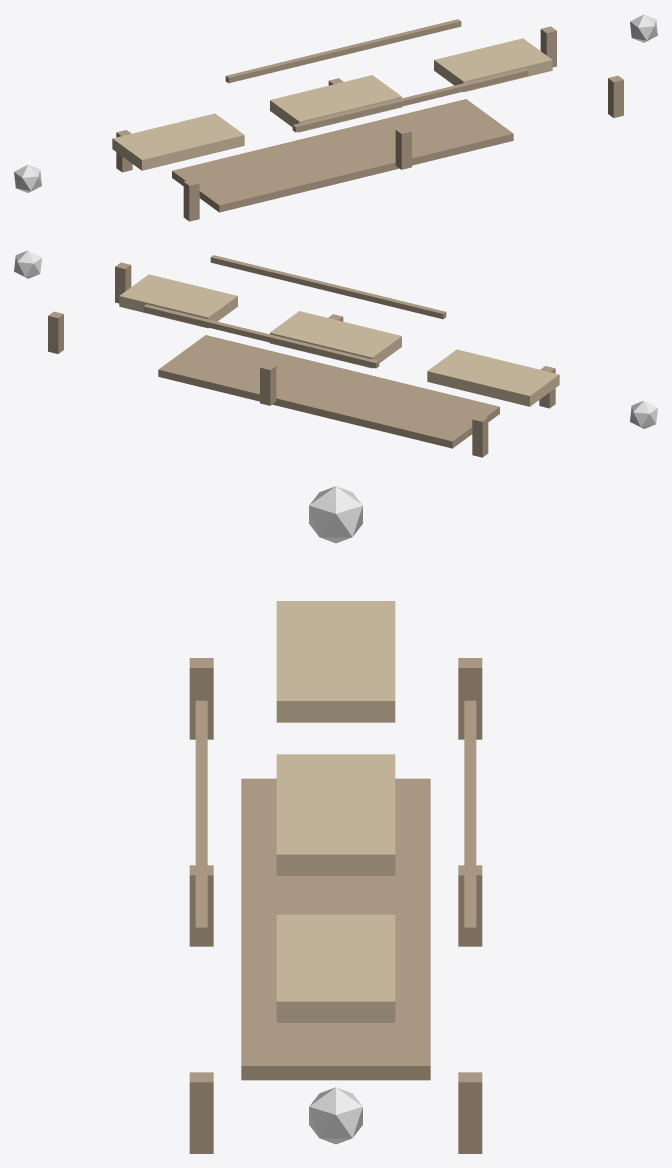
File: COASTAL_BOARDWALK_001_LOD_GAMEPLAY.glb
3 renders of one model, top to bottom at view 1: azimuth 30°, elevation 25°; view 2: azimuth 150°, elevation 25°; view 3: azimuth 270°, elevation 25°, orthographic. The views are drawn at different scales.
Parts seen in each view (by area): view 1: COASTAL_BOARDWALK_001_LOD_GAMEPLAY_GROUND_SOCKET, COASTAL_BOARDWALK_001_LOD_GAMEPLAY_DECK_A, COASTAL_BOARDWALK_001_LOD_GAMEPLAY_DECK_B, COASTAL_BOARDWALK_001_LOD_GAMEPLAY_DECK_C, COASTAL_BOARDWALK_001_LOD_GAMEPLAY_RAIL_LEFT, COASTAL_BOARDWALK_001_LOD_GAMEPLAY_RAIL_RIGHT, COASTAL_BOARDWALK_001_LOD_GAMEPLAY_POST_RIGHT_A, COASTAL_BOARDWALK_001_LOD_GAMEPLAY_POST_RIGHT_B, COASTAL_BOARDWALK_001_LOD_GAMEPLAY_POST_RIGHT_C, COASTAL_BOARDWALK_001_LOD_GAMEPLAY_SNAP_IN, COASTAL_BOARDWALK_001_LOD_GAMEPLAY_SNAP_OUT, COASTAL_BOARDWALK_001_LOD_GAMEPLAY_POST_LEFT_C; view 2: COASTAL_BOARDWALK_001_LOD_GAMEPLAY_GROUND_SOCKET, COASTAL_BOARDWALK_001_LOD_GAMEPLAY_DECK_A, COASTAL_BOARDWALK_001_LOD_GAMEPLAY_DECK_B, COASTAL_BOARDWALK_001_LOD_GAMEPLAY_DECK_C, COASTAL_BOARDWALK_001_LOD_GAMEPLAY_RAIL_RIGHT, COASTAL_BOARDWALK_001_LOD_GAMEPLAY_RAIL_LEFT, COASTAL_BOARDWALK_001_LOD_GAMEPLAY_POST_LEFT_A, COASTAL_BOARDWALK_001_LOD_GAMEPLAY_POST_LEFT_B, COASTAL_BOARDWALK_001_LOD_GAMEPLAY_POST_LEFT_C, COASTAL_BOARDWALK_001_LOD_GAMEPLAY_SNAP_IN, COASTAL_BOARDWALK_001_LOD_GAMEPLAY_SNAP_OUT, COASTAL_BOARDWALK_001_LOD_GAMEPLAY_POST_RIGHT_C; view 3: COASTAL_BOARDWALK_001_LOD_GAMEPLAY_GROUND_SOCKET, COASTAL_BOARDWALK_001_LOD_GAMEPLAY_DECK_A, COASTAL_BOARDWALK_001_LOD_GAMEPLAY_DECK_B, COASTAL_BOARDWALK_001_LOD_GAMEPLAY_DECK_C, COASTAL_BOARDWALK_001_LOD_GAMEPLAY_RAIL_LEFT, COASTAL_BOARDWALK_001_LOD_GAMEPLAY_RAIL_RIGHT, COASTAL_BOARDWALK_001_LOD_GAMEPLAY_SNAP_IN, COASTAL_BOARDWALK_001_LOD_GAMEPLAY_SNAP_OUT, COASTAL_BOARDWALK_001_LOD_GAMEPLAY_POST_LEFT_C, COASTAL_BOARDWALK_001_LOD_GAMEPLAY_POST_RIGHT_C, COASTAL_BOARDWALK_001_LOD_GAMEPLAY_POST_LEFT_A, COASTAL_BOARDWALK_001_LOD_GAMEPLAY_POST_RIGHT_A (+2 smaller).
Boxes of the visible parts, bbox=[...] form: COASTAL_BOARDWALK_001_LOD_GAMEPLAY_GROUND_SOCKET: bbox=[172, 99, 513, 212]; COASTAL_BOARDWALK_001_LOD_GAMEPLAY_DECK_A: bbox=[112, 113, 244, 170]; COASTAL_BOARDWALK_001_LOD_GAMEPLAY_DECK_B: bbox=[270, 75, 401, 132]; COASTAL_BOARDWALK_001_LOD_GAMEPLAY_DECK_C: bbox=[434, 38, 552, 92]; COASTAL_BOARDWALK_001_LOD_GAMEPLAY_RAIL_LEFT: bbox=[225, 19, 461, 83]; COASTAL_BOARDWALK_001_LOD_GAMEPLAY_RAIL_RIGHT: bbox=[292, 68, 528, 132]; COASTAL_BOARDWALK_001_LOD_GAMEPLAY_POST_RIGHT_A: bbox=[183, 179, 199, 221]; COASTAL_BOARDWALK_001_LOD_GAMEPLAY_POST_RIGHT_B: bbox=[395, 127, 411, 169]; COASTAL_BOARDWALK_001_LOD_GAMEPLAY_POST_RIGHT_C: bbox=[608, 75, 623, 117]; COASTAL_BOARDWALK_001_LOD_GAMEPLAY_SNAP_IN: bbox=[14, 164, 41, 192]; COASTAL_BOARDWALK_001_LOD_GAMEPLAY_SNAP_OUT: bbox=[630, 14, 657, 42]; COASTAL_BOARDWALK_001_LOD_GAMEPLAY_POST_LEFT_C: bbox=[540, 26, 556, 67]; COASTAL_BOARDWALK_001_LOD_GAMEPLAY_GROUND_SOCKET: bbox=[158, 335, 499, 448]; COASTAL_BOARDWALK_001_LOD_GAMEPLAY_DECK_A: bbox=[427, 349, 559, 406]; COASTAL_BOARDWALK_001_LOD_GAMEPLAY_DECK_B: bbox=[270, 311, 401, 368]; COASTAL_BOARDWALK_001_LOD_GAMEPLAY_DECK_C: bbox=[119, 274, 237, 328]; COASTAL_BOARDWALK_001_LOD_GAMEPLAY_RAIL_RIGHT: bbox=[210, 255, 446, 319]; COASTAL_BOARDWALK_001_LOD_GAMEPLAY_RAIL_LEFT: bbox=[143, 304, 379, 368]; COASTAL_BOARDWALK_001_LOD_GAMEPLAY_POST_LEFT_A: bbox=[472, 415, 488, 457]; COASTAL_BOARDWALK_001_LOD_GAMEPLAY_POST_LEFT_B: bbox=[260, 363, 276, 405]; COASTAL_BOARDWALK_001_LOD_GAMEPLAY_POST_LEFT_C: bbox=[48, 311, 63, 353]; COASTAL_BOARDWALK_001_LOD_GAMEPLAY_SNAP_IN: bbox=[630, 400, 657, 428]; COASTAL_BOARDWALK_001_LOD_GAMEPLAY_SNAP_OUT: bbox=[14, 250, 41, 278]; COASTAL_BOARDWALK_001_LOD_GAMEPLAY_POST_RIGHT_C: bbox=[115, 262, 131, 303]; COASTAL_BOARDWALK_001_LOD_GAMEPLAY_GROUND_SOCKET: bbox=[241, 778, 430, 1080]; COASTAL_BOARDWALK_001_LOD_GAMEPLAY_DECK_A: bbox=[276, 601, 395, 722]; COASTAL_BOARDWALK_001_LOD_GAMEPLAY_DECK_B: bbox=[276, 754, 395, 875]; COASTAL_BOARDWALK_001_LOD_GAMEPLAY_DECK_C: bbox=[276, 914, 395, 1022]; COASTAL_BOARDWALK_001_LOD_GAMEPLAY_RAIL_LEFT: bbox=[464, 700, 476, 938]; COASTAL_BOARDWALK_001_LOD_GAMEPLAY_RAIL_RIGHT: bbox=[195, 700, 207, 938]; COASTAL_BOARDWALK_001_LOD_GAMEPLAY_SNAP_IN: bbox=[309, 486, 362, 543]; COASTAL_BOARDWALK_001_LOD_GAMEPLAY_SNAP_OUT: bbox=[309, 1087, 362, 1144]; COASTAL_BOARDWALK_001_LOD_GAMEPLAY_POST_LEFT_C: bbox=[458, 1072, 482, 1153]; COASTAL_BOARDWALK_001_LOD_GAMEPLAY_POST_RIGHT_C: bbox=[189, 1072, 213, 1153]; COASTAL_BOARDWALK_001_LOD_GAMEPLAY_POST_LEFT_A: bbox=[458, 658, 482, 739]; COASTAL_BOARDWALK_001_LOD_GAMEPLAY_POST_RIGHT_A: bbox=[189, 658, 213, 739].
Bounding box in the file's own units: 1.87 × 0.2375 × 0.37.
